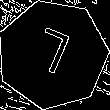L_SW: (28, 25, 77, 83)
